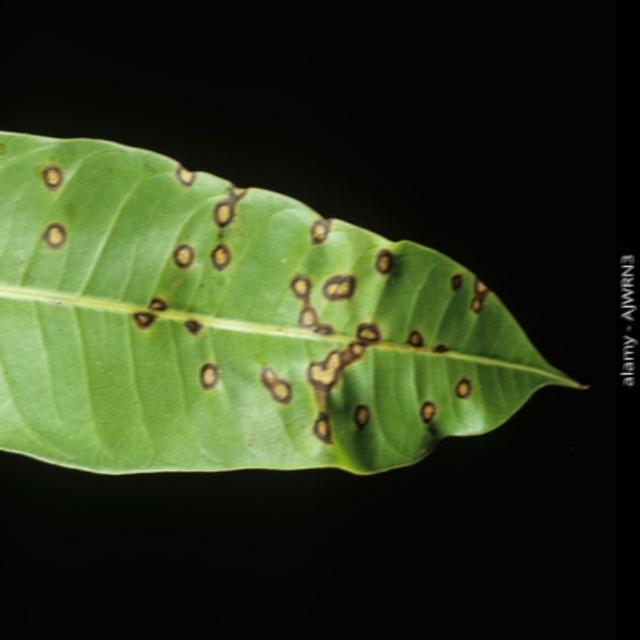leaf_spot: (0, 122, 594, 480)
